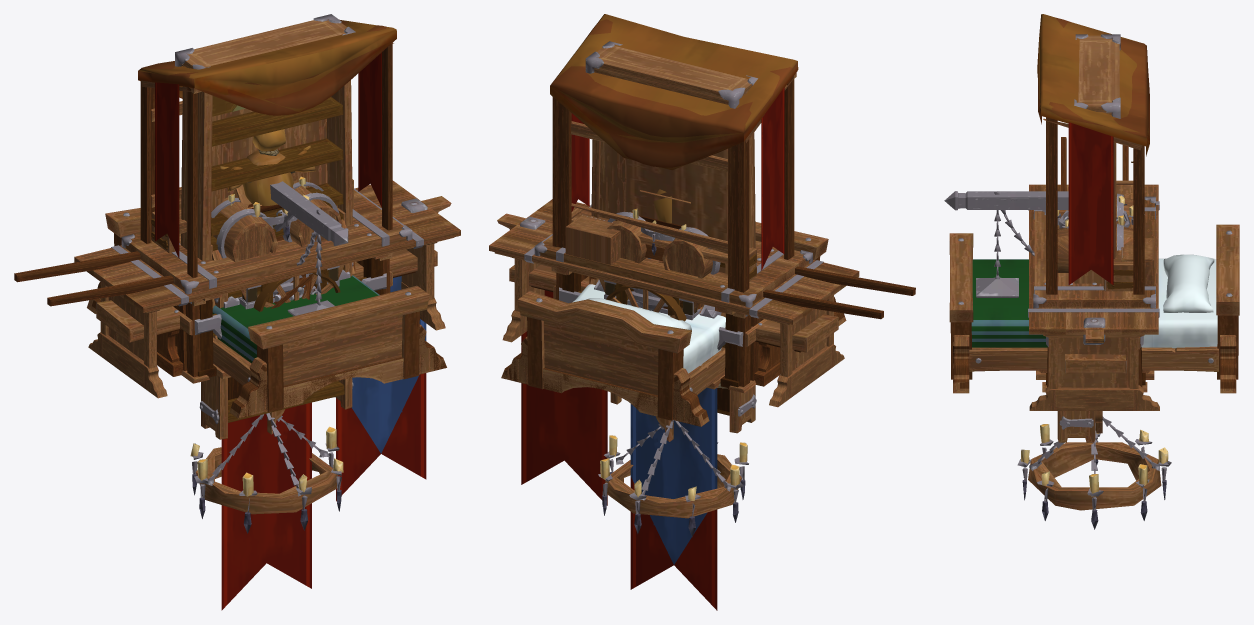
The model's file is props.glb.
The picture shows the model from 3 angles, left to right: view 1: azimuth 30°, elevation 25°; view 2: azimuth 150°, elevation 25°; view 3: azimuth 270°, elevation 25°; orthographic projection. The views are drawn at different scales.
Parts seen in each view (by area): view 1: Bookcase_2, Stall_Empty, Stall_Cart_Empty, Bed_Twin1, Table_Large, Banner_1_Cloth, Bed_Twin2, Workbench, Chandelier, Banner_1, Barrel_Holder, Banner_2 (+4 smaller); view 2: Stall_Empty, Stall_Cart_Empty, Bed_Twin1, Bookcase_2, Table_Large, Bed_Twin2, Banner_1, Banner_2_Cloth, Workbench, Chandelier, Banner_1_Cloth, Bench (+3 smaller); view 3: Bed_Twin2, Stall_Cart_Empty, Bed_Twin1, Table_Large, Stall_Empty, Chandelier, Workbench, Bookcase_2, Lantern_Wall, Bench, Barrel_Holder, Shelf_Arch (+3 smaller).
Boxes of the visible parts, <box> form: Bookcase_2: <box>175,14,355,260</box>; Stall_Empty: <box>138,19,393,383</box>; Stall_Cart_Empty: <box>14,20,396,370</box>; Bed_Twin1: <box>87,199,446,418</box>; Table_Large: <box>74,180,460,398</box>; Banner_1_Cloth: <box>221,402,311,610</box>; Bed_Twin2: <box>92,210,446,418</box>; Workbench: <box>121,190,412,377</box>; Chandelier: <box>190,412,343,533</box>; Banner_1: <box>267,198,427,501</box>; Barrel_Holder: <box>211,181,355,270</box>; Banner_2: <box>352,196,451,453</box>; Stall_Empty: <box>550,19,797,393</box>; Stall_Cart_Empty: <box>550,14,915,380</box>; Bed_Twin1: <box>501,222,846,426</box>; Bookcase_2: <box>585,41,757,274</box>; Table_Large: <box>489,199,859,407</box>; Bed_Twin2: <box>503,239,844,426</box>; Banner_1: <box>521,216,673,505</box>; Banner_2_Cloth: <box>630,387,717,564</box>; Workbench: <box>534,204,812,388</box>; Chandelier: <box>598,420,748,536</box>; Banner_1_Cloth: <box>630,476,717,610</box>; Bench: <box>509,264,838,386</box>; Bed_Twin2: <box>949,224,1239,388</box>; Stall_Cart_Empty: <box>1037,14,1149,294</box>; Bed_Twin1: <box>949,230,1239,393</box>; Table_Large: <box>1028,184,1159,410</box>; Stall_Empty: <box>1038,17,1149,392</box>; Chandelier: <box>1017,416,1171,529</box>; Workbench: <box>1033,196,1155,385</box>; Bookcase_2: <box>1074,34,1120,283</box>; Lantern_Wall: <box>944,191,1068,297</box>; Bench: <box>1065,354,1126,373</box>; Barrel_Holder: <box>1057,193,1133,272</box>; Shelf_Arch: <box>1057,411,1095,442</box>.
Bounding box in the file's own units: 3.72 × 4.87 × 2.46.
5 materials, 5 textured.
